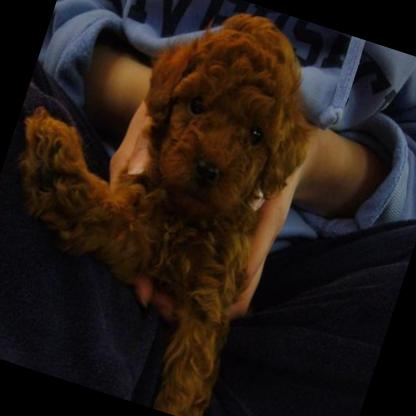toy_poodle: (0, 0, 340, 416)
